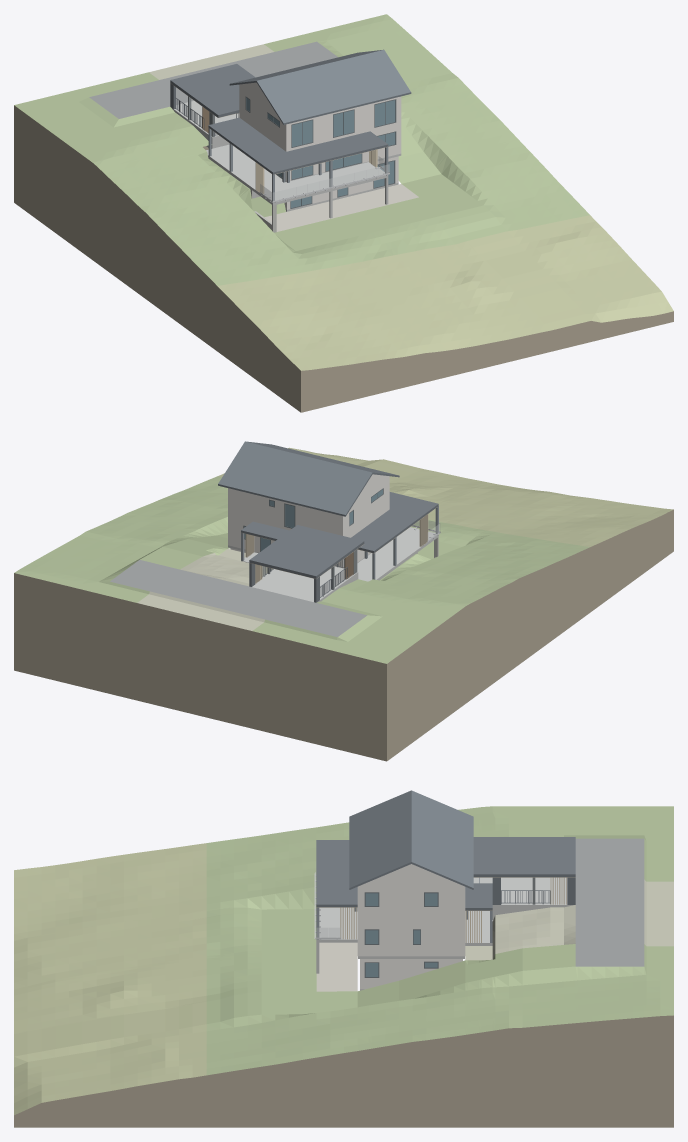
File: Schaffernak_Haus_C.glb
The picture shows the model from 3 angles, top to bottom: view 1: azimuth 30°, elevation 25°; view 2: azimuth 150°, elevation 25°; view 3: azimuth 270°, elevation 25°; orthographic projection. The views are drawn at different scales.
Parts seen in each view (by area): view 1: Foto_Gelaende_Rasen_Boeschung, Foto_Gelaende_Hang_unten, Foto_Gelaende_Modellrand, Satteldach_0, Strasse_parallel_zum_Haus_schematisch, Foto_Gelaende_Kies_Kellerbereich, Entwurf_Dach_vorne, Carport_Dach, Balkon_vorne, Foto_Gelaende_Seitliche_Gruenflaeche, Entwurf_Dach_links, Foto_Gelaende_Rueckseite (+3 smaller); view 2: Foto_Gelaende_Modellrand, Foto_Gelaende_Rasen_Boeschung, Foto_Gelaende_Hang_unten, Strasse_parallel_zum_Haus_schematisch, Satteldach_1, Foto_Gelaende_Rueckseite, Carport_Dach, Foto_Gelaende_Seitliche_Gruenflaeche, Carport_Boden, Entwurf_Dach_links, Balkon_links, OG_back_Wand4 (+5 smaller); view 3: Foto_Gelaende_Rasen_Boeschung, Foto_Gelaende_Modellrand, Foto_Gelaende_Hang_unten, Strasse_parallel_zum_Haus_schematisch, Foto_Gelaende_Rueckseite, Foto_Gelaende_Seitliche_Gruenflaeche, Satteldach_0, Satteldach_1, Carport_Dach, Entwurf_Dach_vorne, Foto_Gelaende_Kies_Kellerbereich, Carport_Boden (+9 smaller).
Part boxes in pixels (x1,y1,x2,y2): Foto_Gelaende_Rasen_Boeschung: (14,14,589,285); Foto_Gelaende_Hang_unten: (217,215,673,370); Foto_Gelaende_Modellrand: (14,105,673,412); Satteldach_0: (256,50,411,124); Strasse_parallel_zum_Haus_schematisch: (89,41,337,118); Foto_Gelaende_Kies_Kellerbereich: (265,184,418,231); Entwurf_Dach_vorne: (255,131,388,174); Carport_Dach: (171,64,254,114); Balkon_vorne: (255,162,388,205); Foto_Gelaende_Seitliche_Gruenflaeche: (264,34,440,183); Entwurf_Dach_links: (208,117,285,160); Foto_Gelaende_Rueckseite: (149,44,273,79); Foto_Gelaende_Modellrand: (14,509,673,761); Foto_Gelaende_Rasen_Boeschung: (14,476,589,663); Foto_Gelaende_Hang_unten: (218,447,673,546); Strasse_parallel_zum_Haus_schematisch: (110,560,366,636); Satteldach_1: (218,441,372,516); Foto_Gelaende_Rueckseite: (137,549,272,630); Carport_Dach: (250,525,363,575); Foto_Gelaende_Seitliche_Gruenflaeche: (97,533,229,602); Carport_Boden: (252,569,352,602); Entwurf_Dach_links: (351,509,420,552); Balkon_links: (357,540,420,580); OG_back_Wand4: (228,488,268,522); Foto_Gelaende_Rasen_Boeschung: (206,806,673,1075); Foto_Gelaende_Modellrand: (14,1015,673,1127); Foto_Gelaende_Hang_unten: (14,843,206,1115); Strasse_parallel_zum_Haus_schematisch: (575,838,644,966); Foto_Gelaende_Rueckseite: (465,879,673,960); Foto_Gelaende_Seitliche_Gruenflaeche: (357,944,673,1007); Satteldach_0: (349,790,411,889); Satteldach_1: (411,790,473,889); Carport_Dach: (473,837,575,874); Entwurf_Dach_vorne: (316,840,357,907); Foto_Gelaende_Kies_Kellerbereich: (316,942,357,991); Carport_Boden: (492,877,573,906).
Bounding box in the file's own units: 36 × 16.06 × 48.
